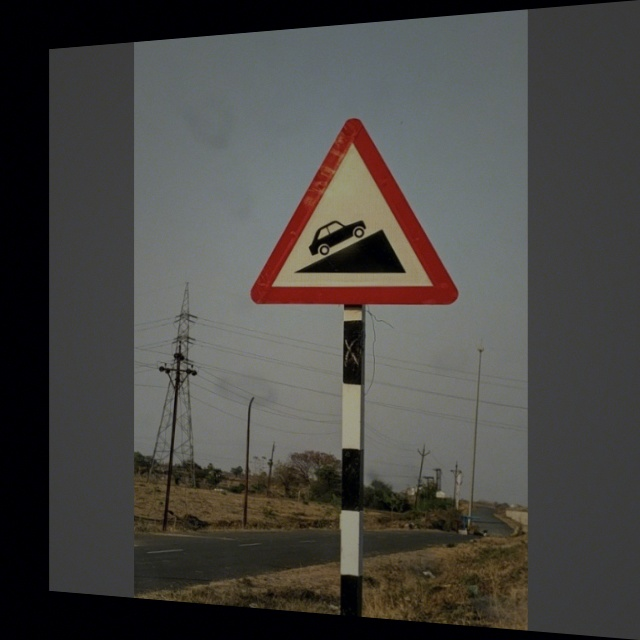Steep_Ascent: (254, 110, 453, 309)
